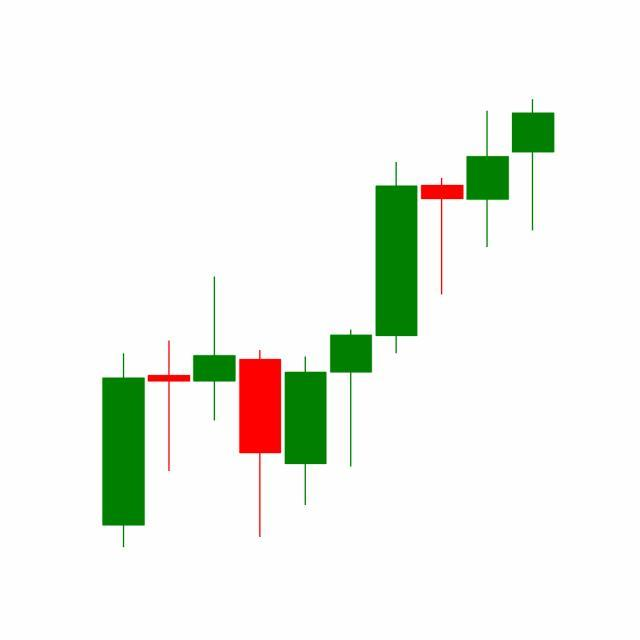Hikkake Pattern: (283, 108, 512, 511)
